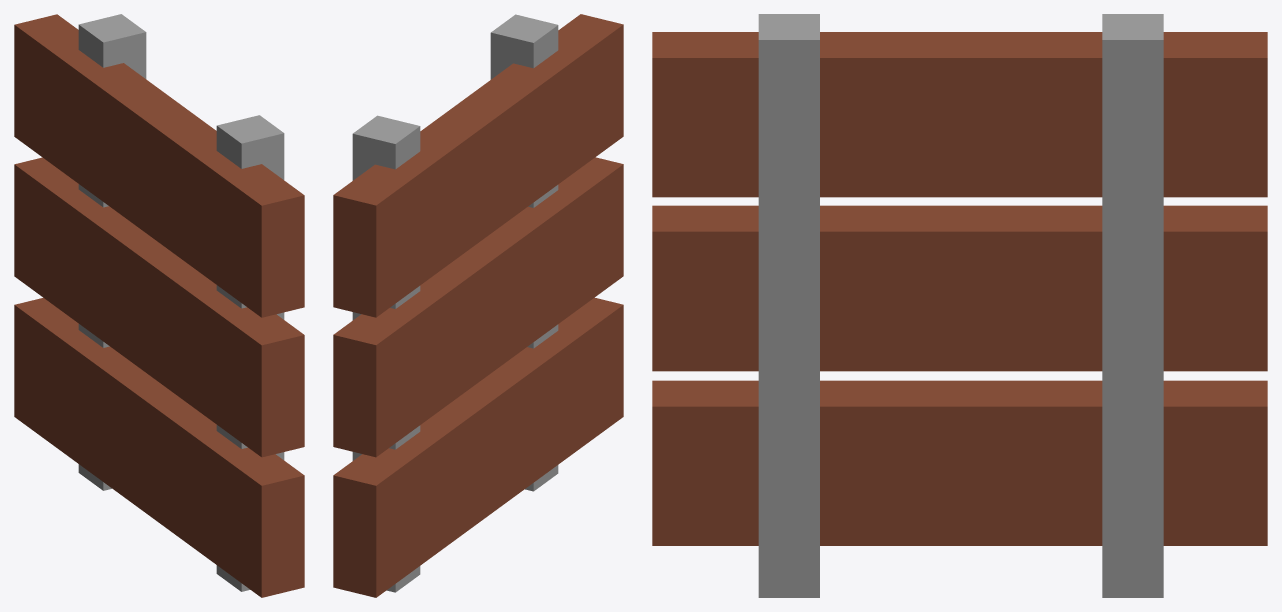
Rendered from rail+.glb.
The picture shows the model from 3 angles, left to right: view 1: azimuth 30°, elevation 25°; view 2: azimuth 150°, elevation 25°; view 3: azimuth 270°, elevation 25°; orthographic projection. The views are drawn at different scales.
Visible parts, largest first — view 1: Cube.001, Cube.004, Cube.003, Cube, Cube.002; view 2: Cube.001, Cube.004, Cube.003, Cube.002, Cube; view 3: Cube.003, Cube.001, Cube.004, Cube, Cube.002.
Part boxes in pixels (bbox=[...]): Cube.001: bbox=[14, 14, 304, 317]; Cube.004: bbox=[14, 297, 304, 597]; Cube.003: bbox=[14, 157, 304, 457]; Cube: bbox=[216, 115, 284, 591]; Cube.002: bbox=[78, 14, 146, 490]; Cube.001: bbox=[333, 14, 623, 317]; Cube.004: bbox=[333, 297, 623, 597]; Cube.003: bbox=[333, 157, 623, 457]; Cube.002: bbox=[352, 115, 420, 592]; Cube: bbox=[490, 14, 558, 491]; Cube.003: bbox=[652, 205, 1267, 371]; Cube.001: bbox=[652, 32, 1267, 197]; Cube.004: bbox=[652, 380, 1267, 545]; Cube: bbox=[758, 14, 819, 597]; Cube.002: bbox=[1102, 14, 1163, 597].
Bounding box in the file's own units: 0.3049 × 2 × 2.
